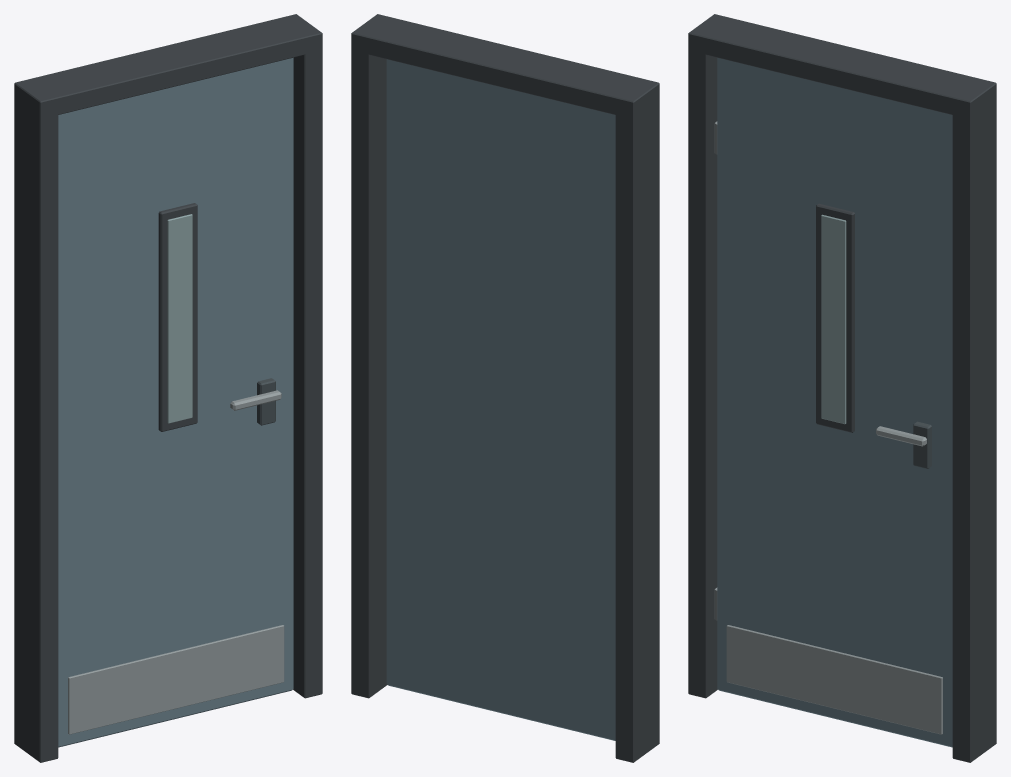
Rendered from Door.fbx.
3 views of the same model, side by side, from view 1: azimuth 30°, elevation 25°; view 2: azimuth 150°, elevation 25°; view 3: azimuth 330°, elevation 25° (orthographic).
Visible parts, largest first — view 1: MR_Door_DoorHinge, MR_Door_Body; view 2: MR_Door_DoorHinge, MR_Door_Body; view 3: MR_Door_DoorHinge, MR_Door_Body.
Part boxes in pixels (x1,y1,x2,y2): MR_Door_DoorHinge: (58,57,293,747); MR_Door_Body: (14,14,322,762); MR_Door_DoorHinge: (386,59,615,740); MR_Door_Body: (351,14,659,762); MR_Door_DoorHinge: (714,57,952,747); MR_Door_Body: (688,14,996,762).
Size of the model in its own units: 0.985 by 2.2 by 0.179.
